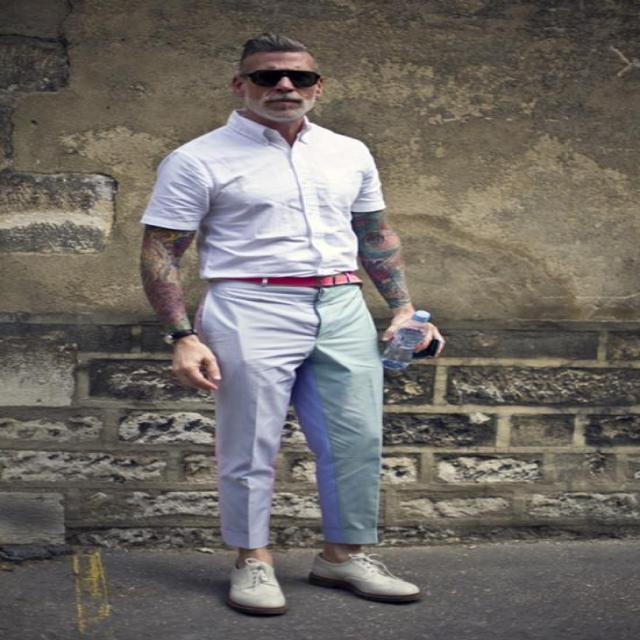pants: (197, 273, 384, 549)
shirt: (140, 107, 389, 280)
